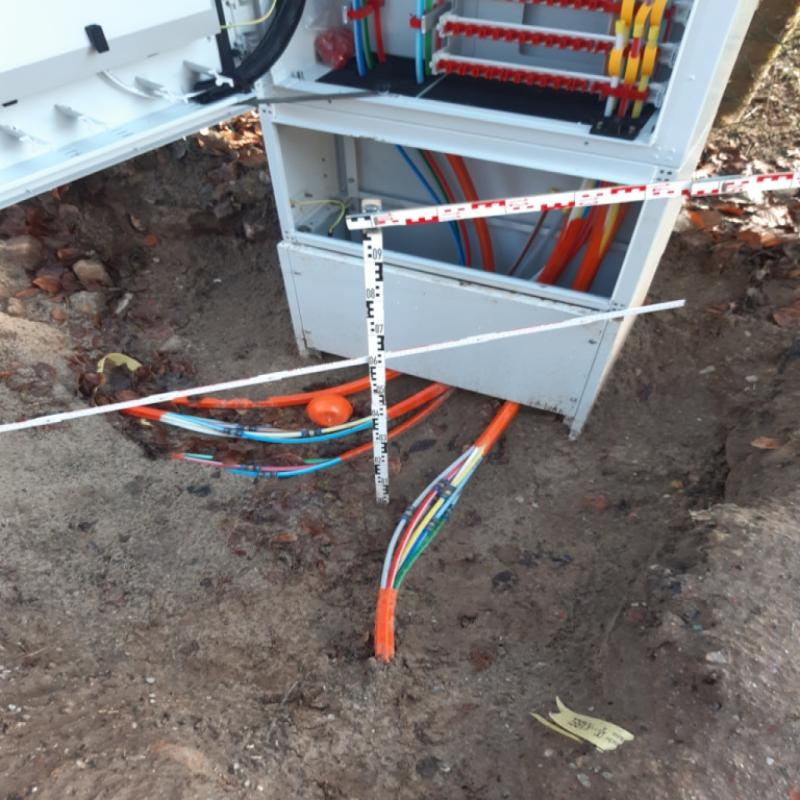Kugelmarker: (306, 393, 352, 425)
NT-Gehause: (0, 0, 759, 422)
Orang-Speednetrohrchen: (378, 402, 514, 651), (174, 383, 454, 478), (172, 376, 368, 409)
